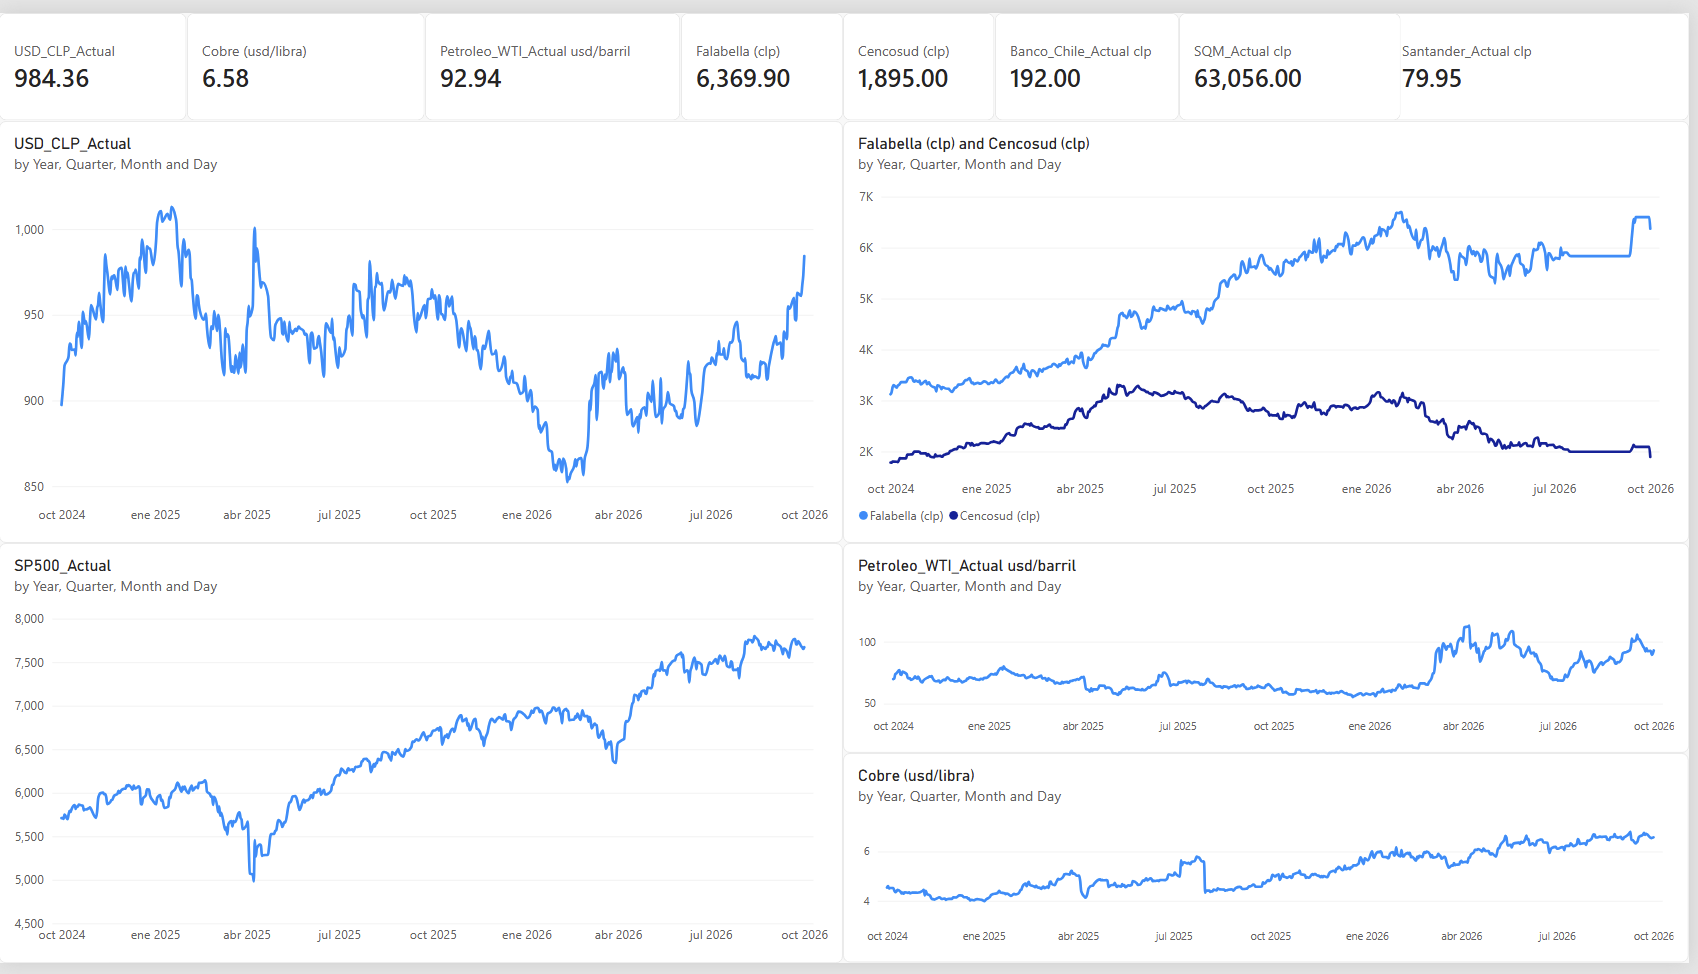

What the dashboard file says about the page in this screenshot:
{"tool":"powerbi","page":{"name":"Page 1","canvas":[1920,1080],"ordinal":0},"visuals":[{"type":"lineChart","fields":{"Category":["precios_historicos_mercado.Date.Variation.Date Hierarchy.Year","precios_historicos_mercado.Date.Variation.Date Hierarchy.Quarter","precios_historicos_mercado.Date.Variation.Date Hierarchy.Month","precios_historicos_mercado.Date.Variation.Date Hierarchy.Day"],"Y":["precios_historicos_mercado.USD_CLP_Actual"]},"box":[0,122.7,959.1,479.5],"z":0},{"type":"lineChart","fields":{"Category":["precios_historicos_mercado.Date.Variation.Date Hierarchy.Year","precios_historicos_mercado.Date.Variation.Date Hierarchy.Quarter","precios_historicos_mercado.Date.Variation.Date Hierarchy.Month","precios_historicos_mercado.Date.Variation.Date Hierarchy.Day"],"Y":["precios_historicos_mercado.Falabella (clp)","precios_historicos_mercado.Cencosud (clp)"]},"box":[959.1,122.7,961.4,479.5],"z":1},{"type":"cardVisual","fields":{"Data":["precios_historicos_mercado.Cobre_Actual"]},"box":[213.6,0,270.7,122.6],"z":2},{"type":"cardVisual","fields":{"Data":["precios_historicos_mercado.Falabella_Actual"]},"box":[775,0,184.1,122.7],"z":3},{"type":"cardVisual","fields":{"Data":["precios_historicos_mercado.Cencosud_Actual"]},"box":[959.1,0,172.7,122.7],"z":4},{"type":"cardVisual","fields":{"Data":["precios_historicos_mercado.USD_CLP_Actual"]},"box":[0,0,213.6,122.7],"z":5},{"type":"cardVisual","fields":{"Data":["precios_historicos_mercado.Banco_Chile_Actual"]},"box":[1131.8,0,209.1,122.7],"z":6},{"type":"cardVisual","fields":{"Data":["precios_historicos_mercado.Santander_Actual"]},"box":[1577.3,0,343.2,122.7],"z":7},{"type":"cardVisual","fields":{"Data":["precios_historicos_mercado.SQM_Actual"]},"box":[1340.9,0,252.3,122.7],"z":8},{"type":"cardVisual","fields":{"Data":["precios_historicos_mercado.Petroleo_WTI_Actual"]},"box":[484.1,0,290.9,122.7],"z":9},{"type":"lineChart","fields":{"Category":["precios_historicos_mercado.Date.Variation.Date Hierarchy.Year","precios_historicos_mercado.Date.Variation.Date Hierarchy.Quarter","precios_historicos_mercado.Date.Variation.Date Hierarchy.Month","precios_historicos_mercado.Date.Variation.Date Hierarchy.Day"],"Y":["precios_historicos_mercado.SP500_Actual"]},"box":[0,602.3,959.1,477.3],"z":10},{"type":"lineChart","fields":{"Category":["precios_historicos_mercado.Date.Variation.Date Hierarchy.Year","precios_historicos_mercado.Date.Variation.Date Hierarchy.Quarter","precios_historicos_mercado.Date.Variation.Date Hierarchy.Month","precios_historicos_mercado.Date.Variation.Date Hierarchy.Day"],"Y":["precios_historicos_mercado.Petroleo_WTI_Actual usd/barril"]},"box":[959.1,602.3,961.4,238.6],"z":11},{"type":"lineChart","fields":{"Category":["precios_historicos_mercado.Date.Variation.Date Hierarchy.Year","precios_historicos_mercado.Date.Variation.Date Hierarchy.Quarter","precios_historicos_mercado.Date.Variation.Date Hierarchy.Month","precios_historicos_mercado.Date.Variation.Date Hierarchy.Day"],"Y":["precios_historicos_mercado.Cobre (usd/libra)"]},"box":[959,841,961,238],"z":12}]}

Visuals, with their boxes in screenshot pixels (x1, y1, x2, y2), scaled from the page's 1920x1080 canvas onto the 1698x974 screenshot:
lineChart - precios_historicos_mercado.Date.Variation.Date Hierarchy.Year x precios_historicos_mercado.Date.Variation.Date Hierarchy.Quarter: [left=0, top=111, right=848, bottom=543]
lineChart - precios_historicos_mercado.Date.Variation.Date Hierarchy.Year x precios_historicos_mercado.Date.Variation.Date Hierarchy.Quarter: [left=848, top=111, right=1697, bottom=543]
cardVisual - precios_historicos_mercado.Cobre_Actual: [left=189, top=0, right=428, bottom=111]
cardVisual - precios_historicos_mercado.Falabella_Actual: [left=685, top=0, right=848, bottom=111]
cardVisual - precios_historicos_mercado.Cencosud_Actual: [left=848, top=0, right=1001, bottom=111]
cardVisual - precios_historicos_mercado.USD_CLP_Actual: [left=0, top=0, right=189, bottom=111]
cardVisual - precios_historicos_mercado.Banco_Chile_Actual: [left=1001, top=0, right=1186, bottom=111]
cardVisual - precios_historicos_mercado.Santander_Actual: [left=1395, top=0, right=1697, bottom=111]
cardVisual - precios_historicos_mercado.SQM_Actual: [left=1186, top=0, right=1409, bottom=111]
cardVisual - precios_historicos_mercado.Petroleo_WTI_Actual: [left=428, top=0, right=685, bottom=111]
lineChart - precios_historicos_mercado.Date.Variation.Date Hierarchy.Year x precios_historicos_mercado.Date.Variation.Date Hierarchy.Quarter: [left=0, top=543, right=848, bottom=973]
lineChart - precios_historicos_mercado.Date.Variation.Date Hierarchy.Year x precios_historicos_mercado.Date.Variation.Date Hierarchy.Quarter: [left=848, top=543, right=1697, bottom=758]
lineChart - precios_historicos_mercado.Date.Variation.Date Hierarchy.Year x precios_historicos_mercado.Date.Variation.Date Hierarchy.Quarter: [left=848, top=758, right=1697, bottom=973]
